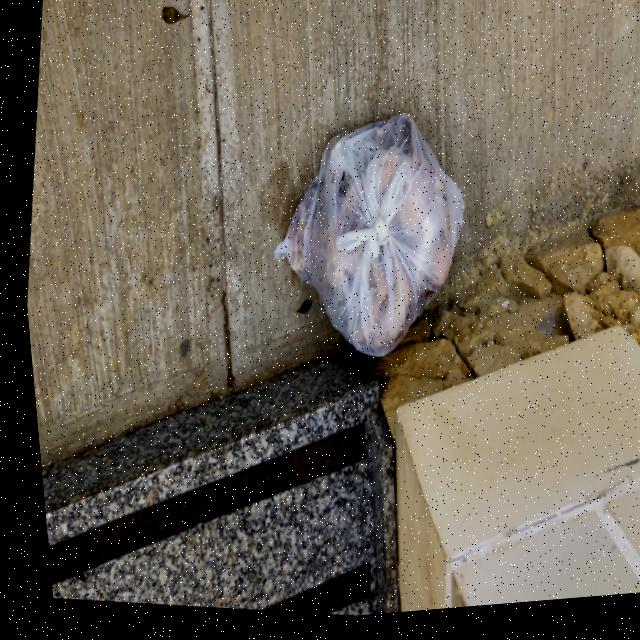Organic Waste -White Bag-: (245, 97, 485, 383)
